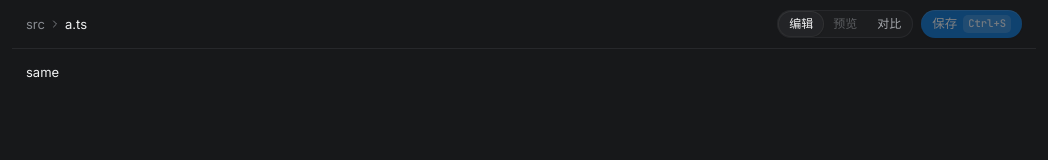
Test: 文件页三态视图（预览/对比回归） › 与基线一致时给结论而不是整屏等同行
Step 1. Click the radio button labelled "对比" → [889, 24], box [867,12,911,36]
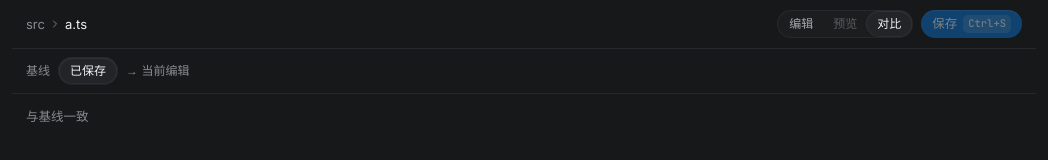
Now the text "与基线一致" is shown, box [26,109,88,124]
